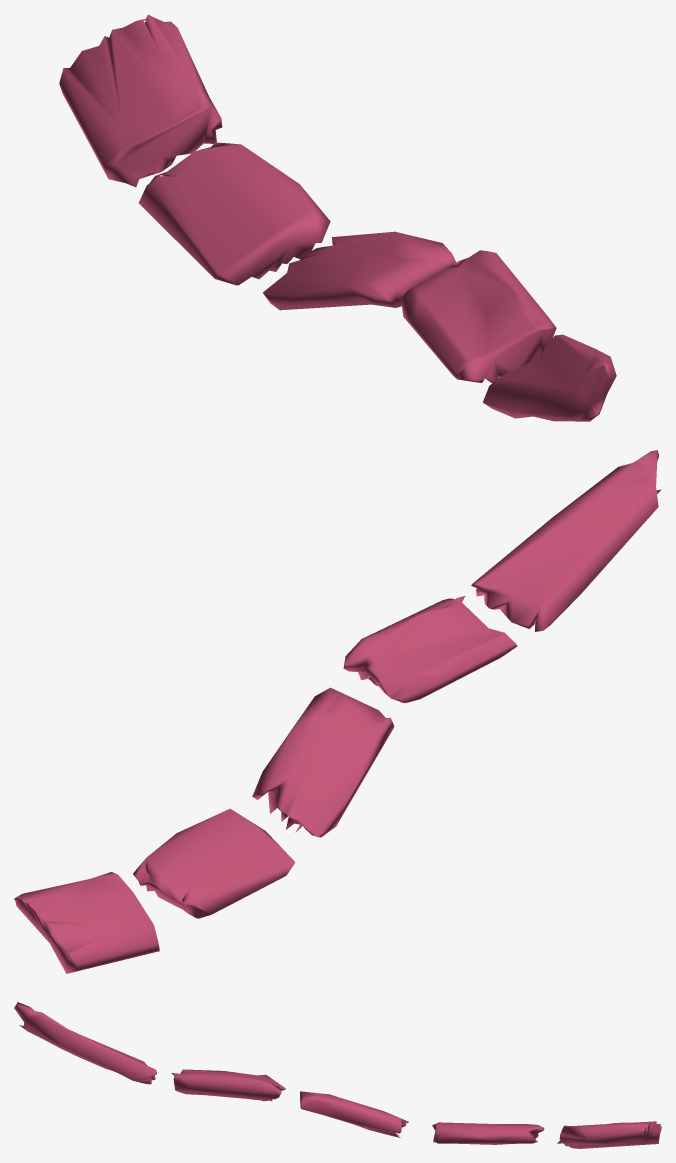
3 renders of one model, top to bottom at view 1: azimuth 30°, elevation 25°; view 2: azimuth 150°, elevation 25°; view 3: azimuth 270°, elevation 25°, orthographic. The views are drawn at different scales.
Visible parts, largest first — view 1: 左侧腰外侧横突间肌背侧部; view 2: 左侧腰外侧横突间肌背侧部; view 3: 左侧腰外侧横突间肌背侧部.
Part boxes in pixels (x1=…): 左侧腰外侧横突间肌背侧部: x1=59, y1=14, x2=616, y2=421; 左侧腰外侧横突间肌背侧部: x1=14, y1=450, x2=661, y2=973; 左侧腰外侧横突间肌背侧部: x1=14, y1=1002, x2=661, y2=1148.
Bounding box in the file's own units: 0.0421 × 0.047 × 0.2213.
